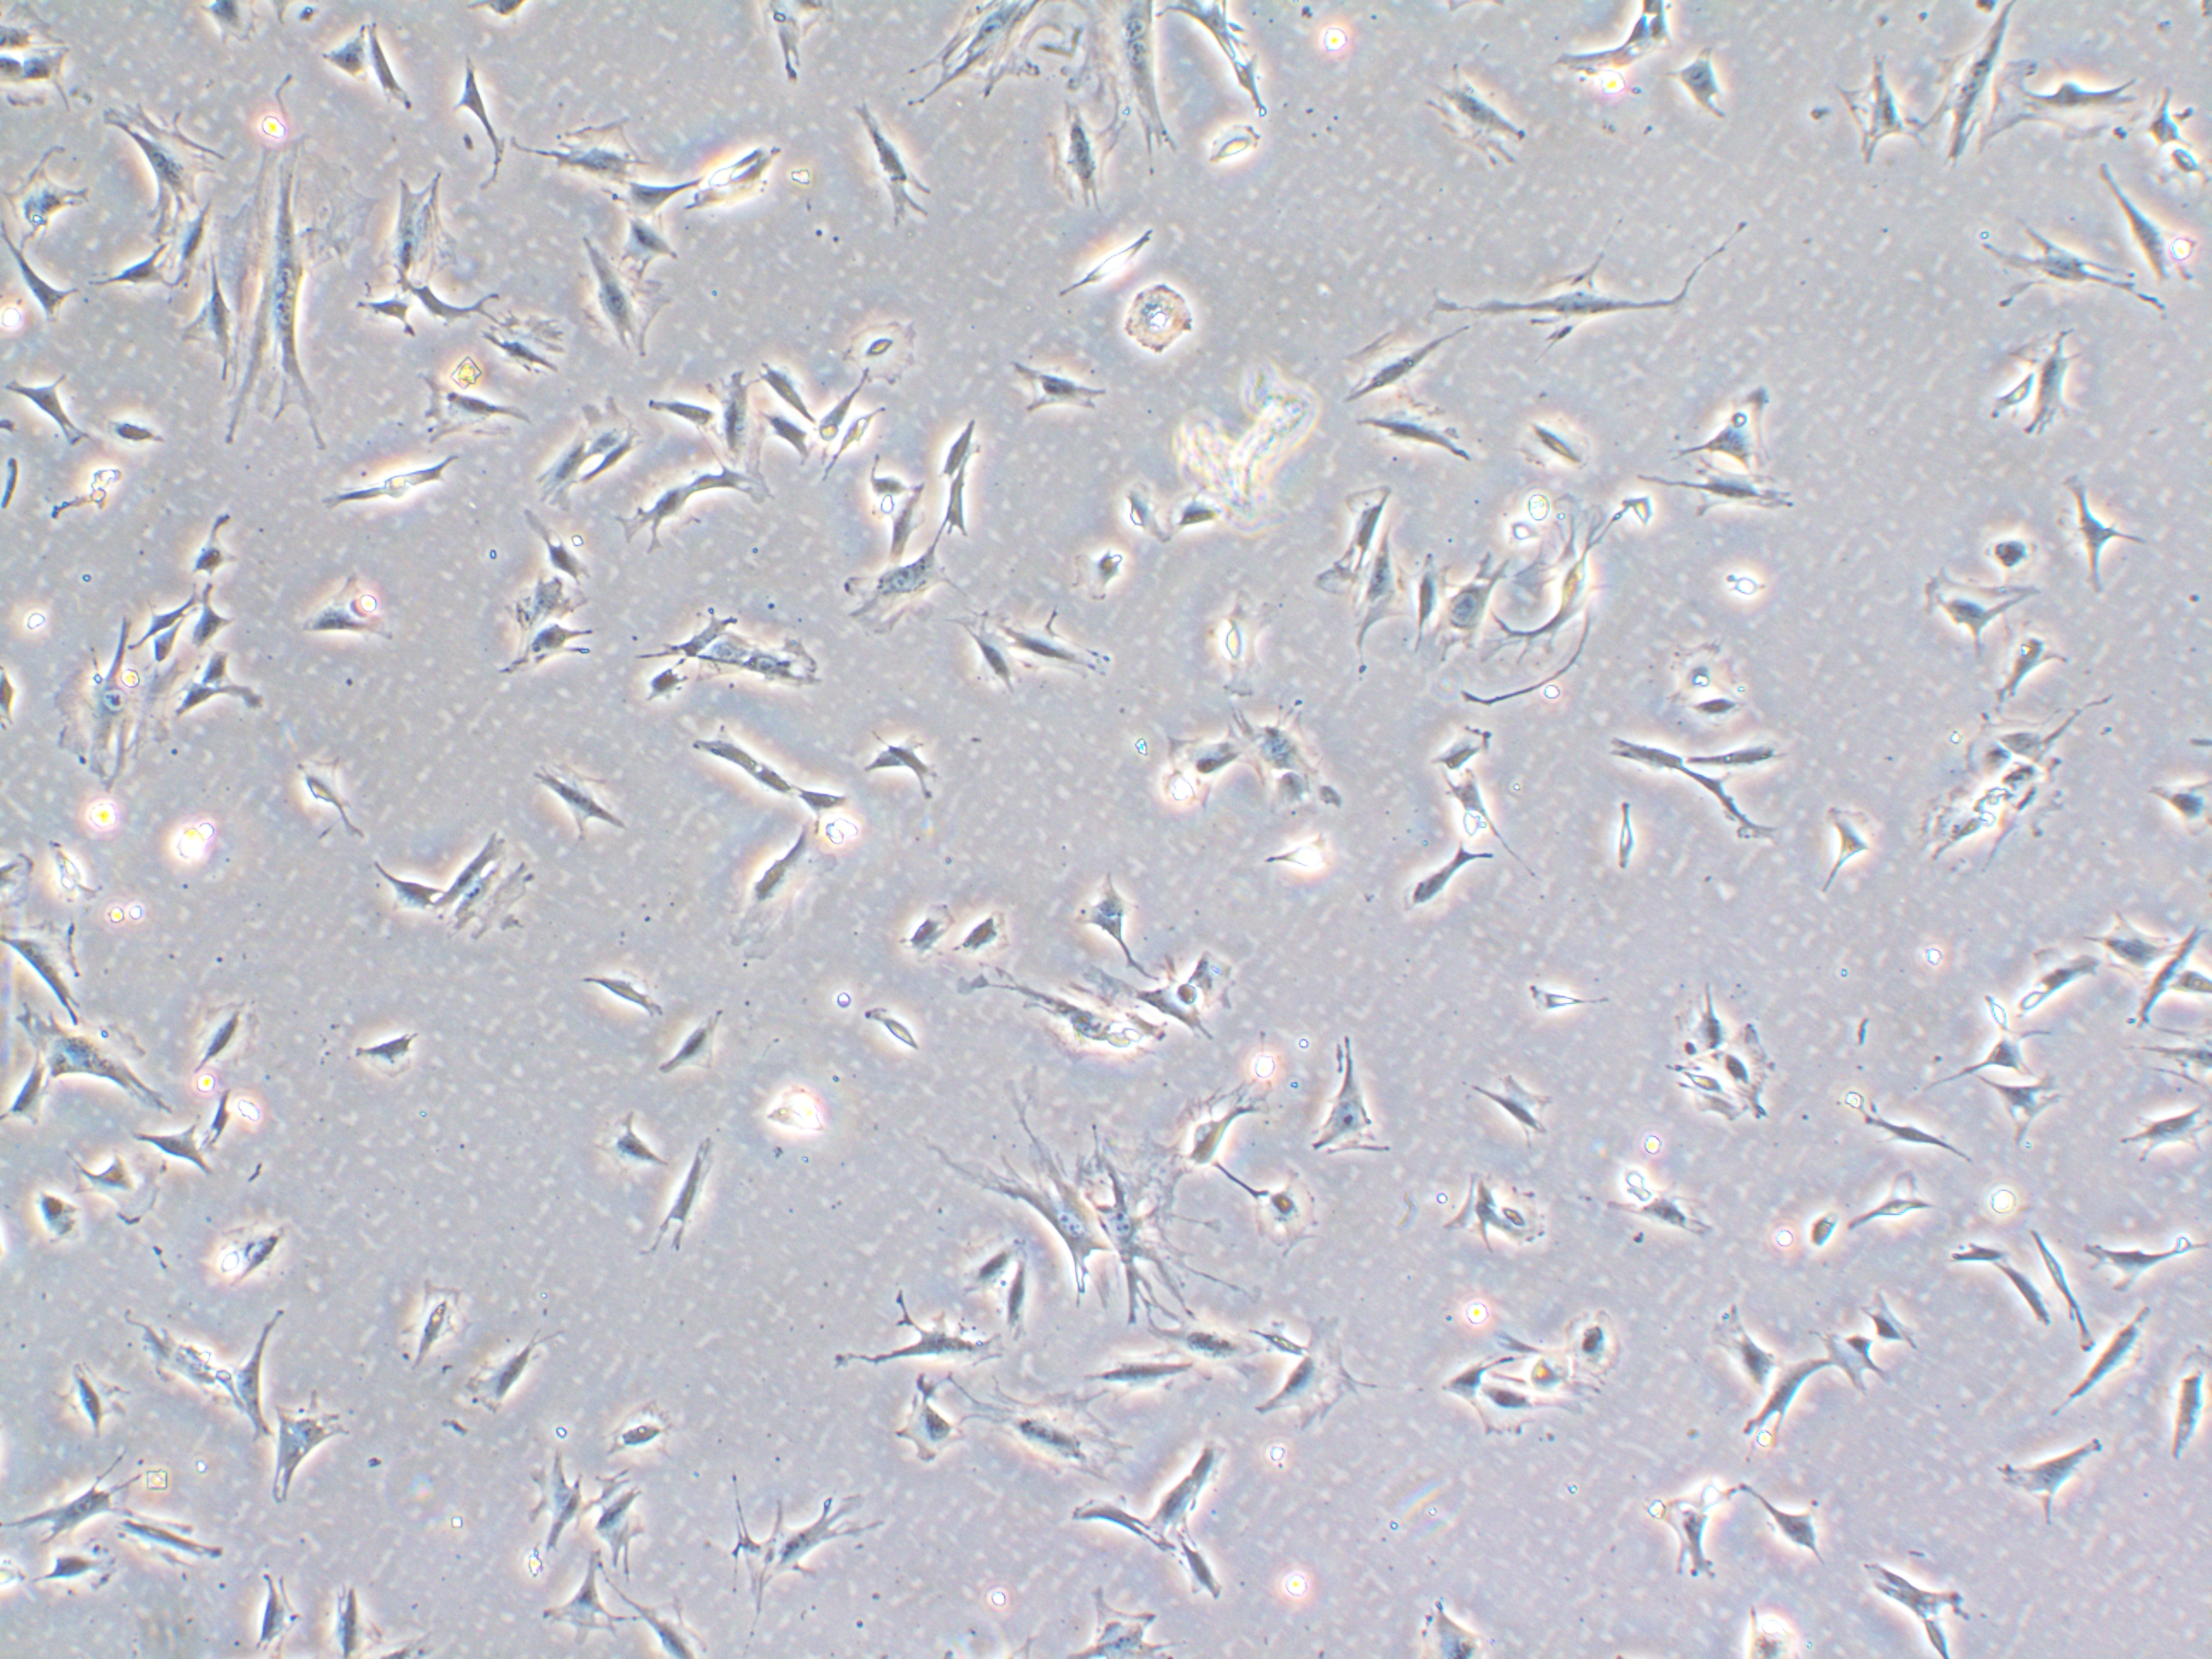small: (1242, 1148, 1332, 1269), (599, 1377, 691, 1467), (846, 988, 941, 1073), (833, 310, 923, 389), (1554, 1297, 1630, 1387), (14, 1176, 98, 1256), (1195, 110, 1264, 192), (1061, 538, 1139, 598), (1799, 1201, 1844, 1265)
spread: (221, 134, 364, 448), (1087, 1103, 1231, 1349), (960, 1091, 1118, 1310), (49, 594, 178, 807), (1930, 706, 2076, 871), (1055, 0, 1184, 173), (10, 997, 172, 1129), (1900, 0, 2024, 169), (98, 92, 226, 251), (1249, 1295, 1386, 1434), (561, 237, 676, 378), (888, 0, 1033, 112), (1211, 699, 1345, 812), (428, 826, 538, 964), (359, 159, 460, 307), (529, 106, 662, 207), (1998, 56, 2137, 150), (829, 551, 953, 653), (688, 359, 773, 507), (1104, 258, 1219, 368), (1674, 1026, 1787, 1129), (0, 145, 91, 272), (472, 303, 577, 396)
